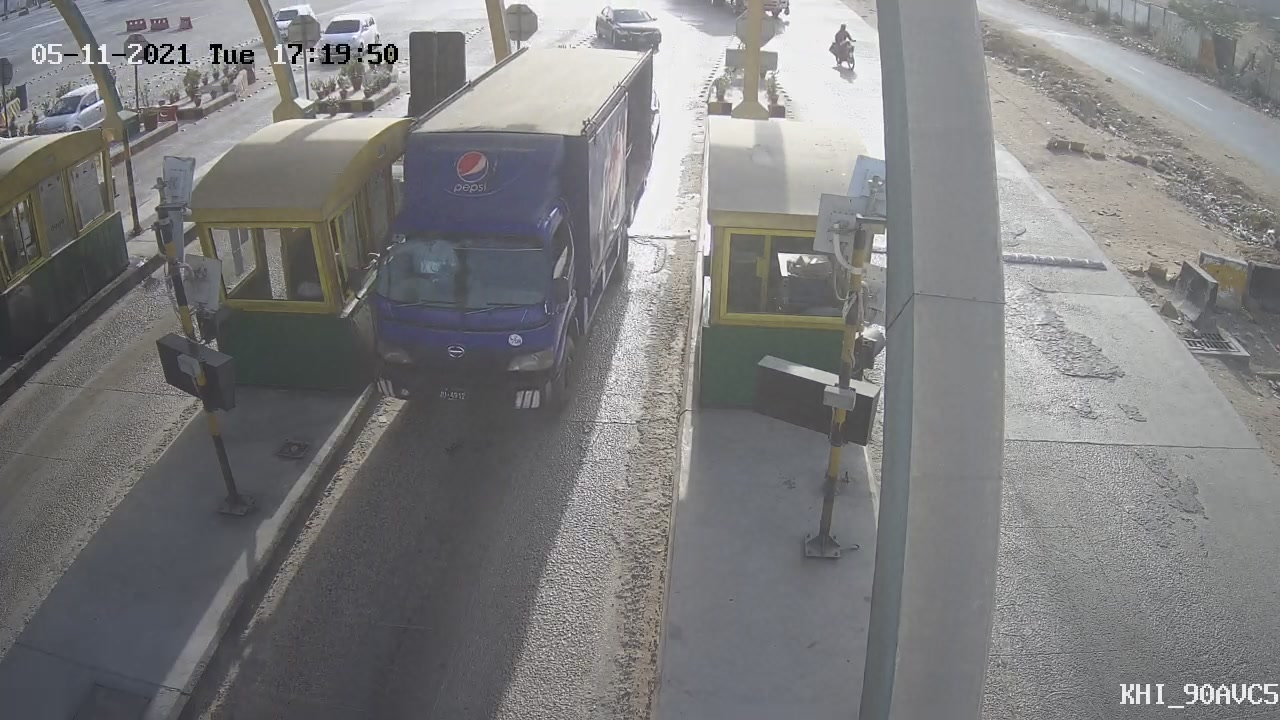F5: (321, 34, 683, 439)
